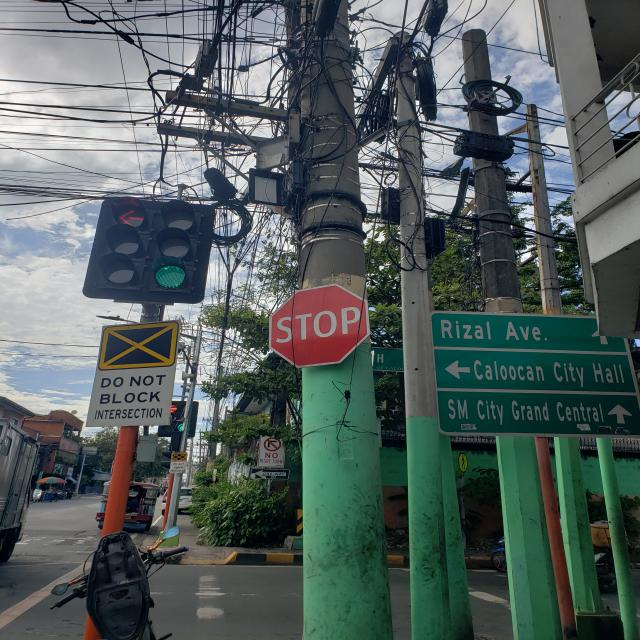stop-sign: (268, 283, 371, 368)
